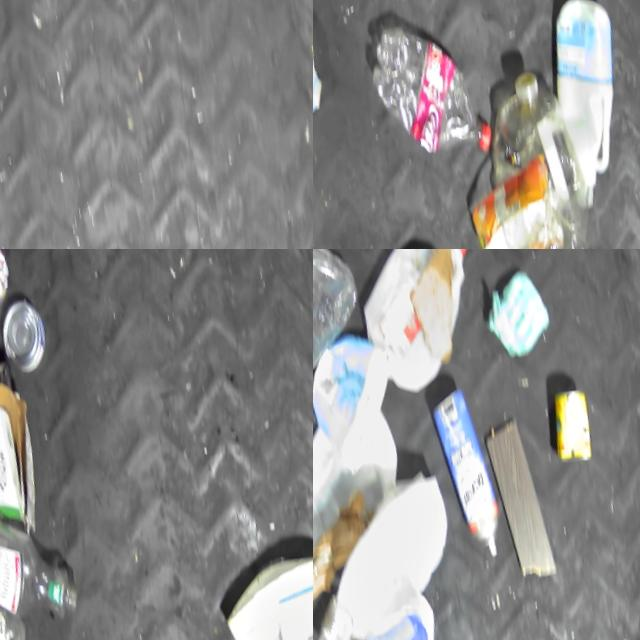can: (0, 287, 61, 375), (547, 373, 604, 463), (324, 604, 385, 640)
milk_jug: (328, 474, 472, 640), (344, 249, 494, 394), (531, 0, 640, 193), (313, 0, 351, 166)
plastic_bottle: (469, 55, 631, 249), (360, 5, 515, 180), (0, 495, 100, 636), (313, 249, 380, 431)
